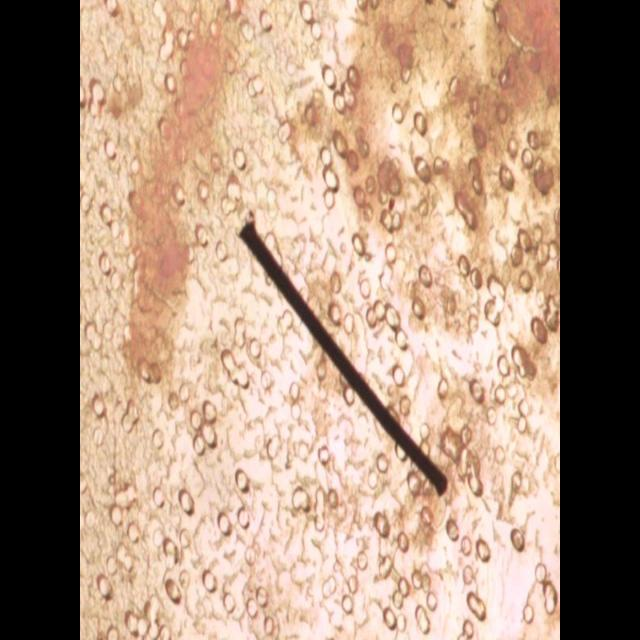Fibre: (236, 212, 448, 498)
